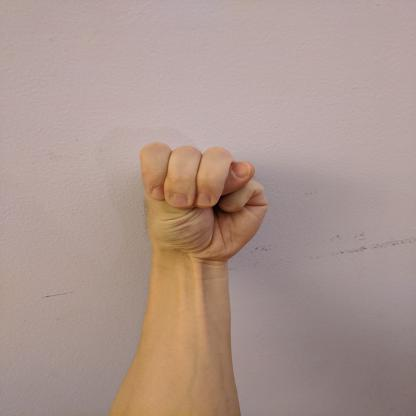M: (132, 135, 274, 266)
